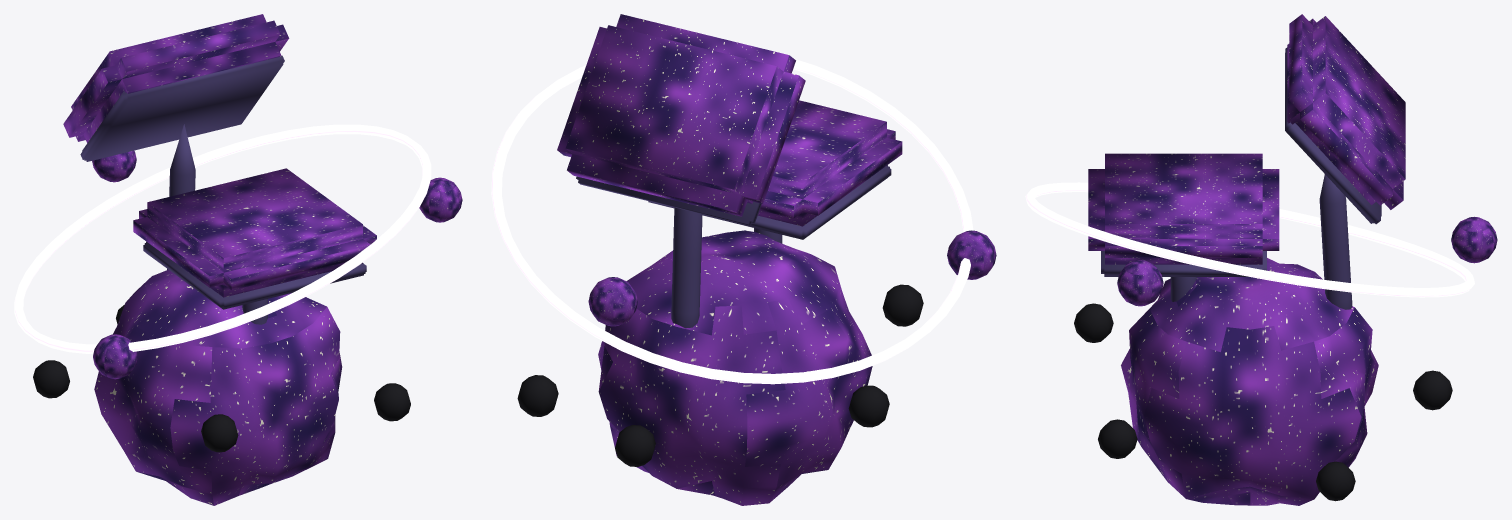
File: GalaxyBench.fbx
3 views of the same model, side by side, from view 1: azimuth 30°, elevation 25°; view 2: azimuth 150°, elevation 25°; view 3: azimuth 270°, elevation 25° (orthographic). The views are drawn at different scales.
Visible parts, largest first — view 1: GalaxyBench, GalaxyBench_Glow; view 2: GalaxyBench, GalaxyBench_Glow; view 3: GalaxyBench, GalaxyBench_Glow.
Part boxes in pixels (<box>): GalaxyBench: <box>33,14,462,505</box>; GalaxyBench_Glow: <box>14,124,431,353</box>; GalaxyBench: <box>517,14,996,505</box>; GalaxyBench_Glow: <box>491,59,973,384</box>; GalaxyBench: <box>1074,14,1497,505</box>; GalaxyBench_Glow: <box>1025,182,1474,297</box>.
Bounding box in the file's own units: 265 × 293 × 284.
2 materials, 1 textured.
